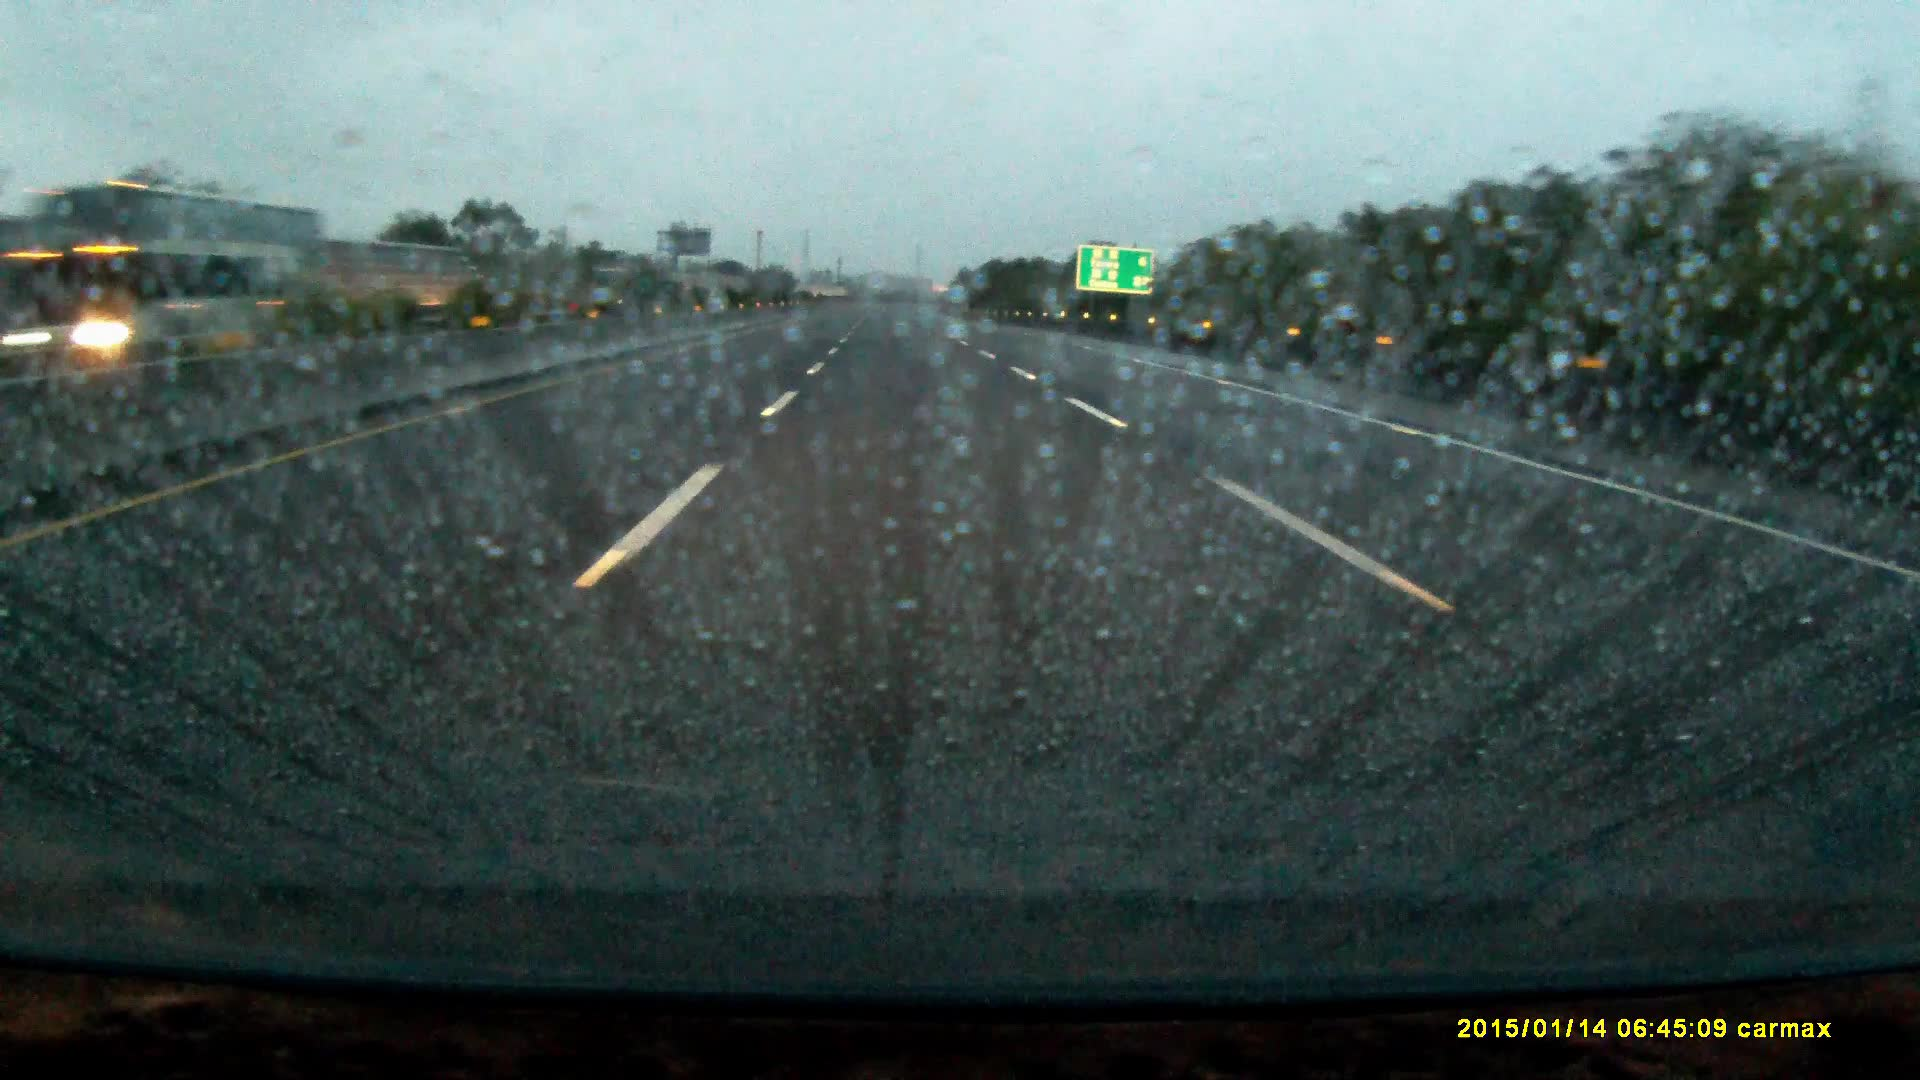vehicle: (18, 177, 284, 349), (591, 266, 661, 307)
